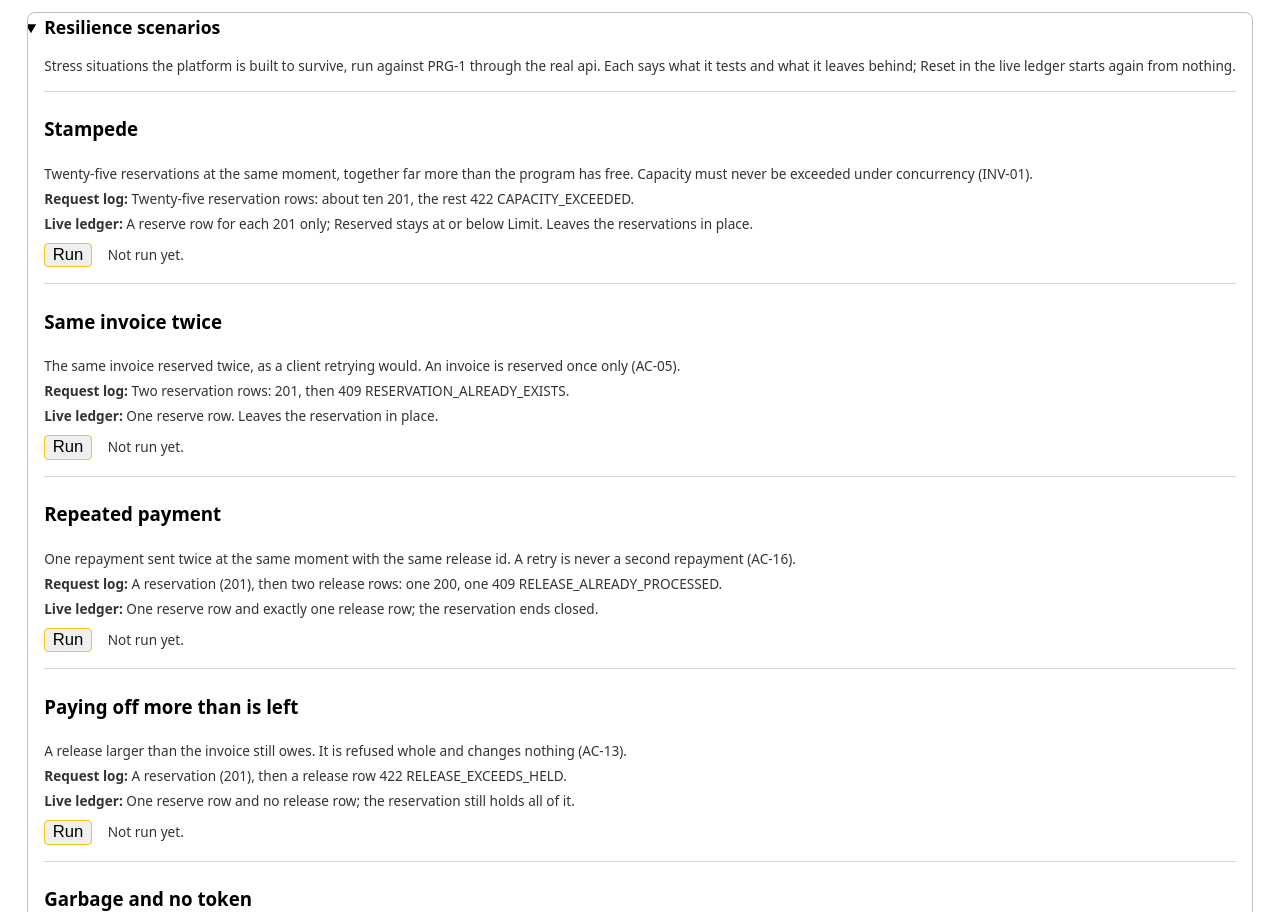
Test: ResilienceScenarios › should pass the stampede when capacity is never exceeded and the rest are refused
The width and height of the screenshot is (1280, 912).
Click the button "Run" below "Stampede".
click(68, 255)  # box [44,242,92,267]
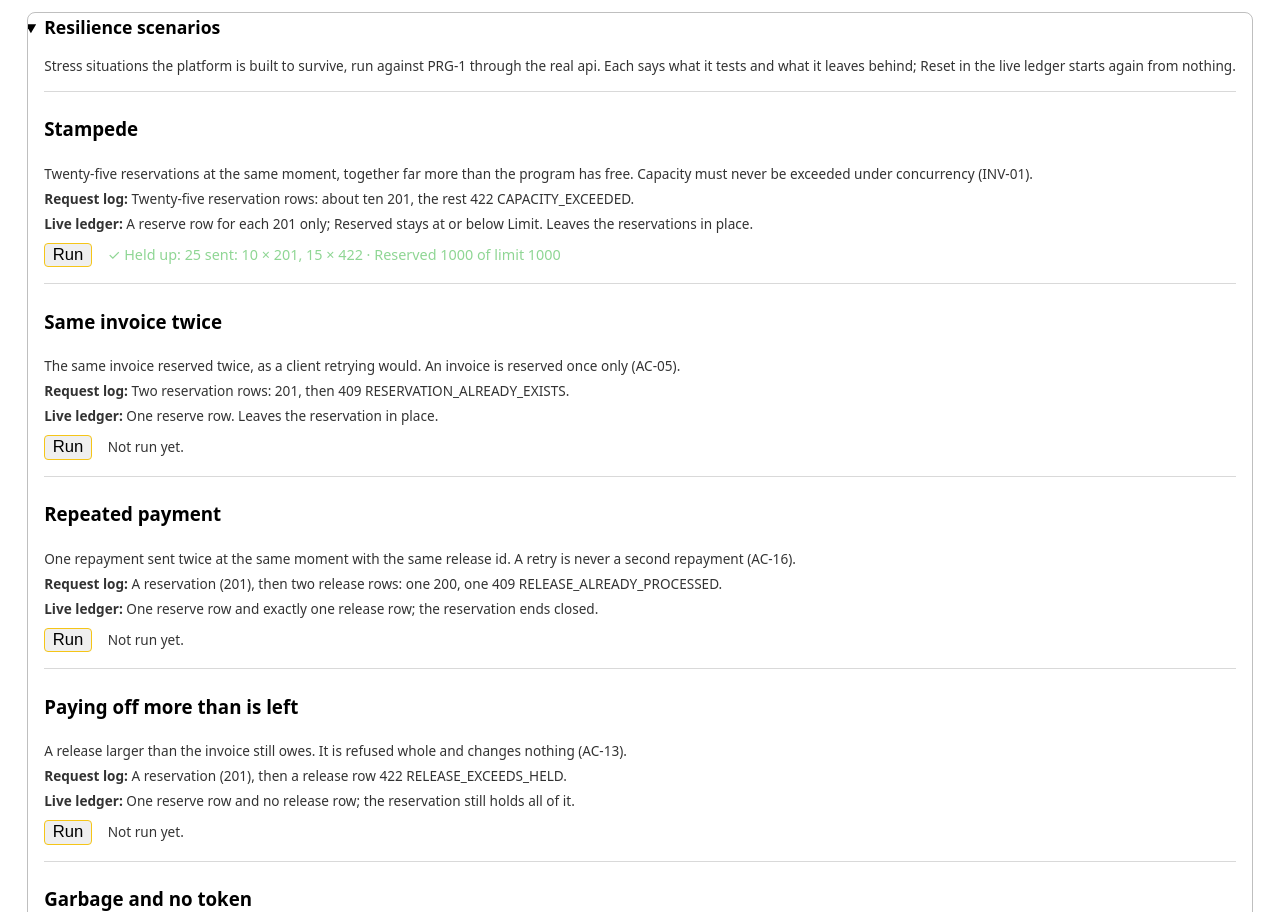
Expected: the text with test id "outcome" shows "✓", [108,245,561,264]
Expected: the text with test id "outcome" shows "10 × 201", [108,245,561,264]
Expected: the text with test id "outcome" shows "15 × 422", [108,245,561,264]
